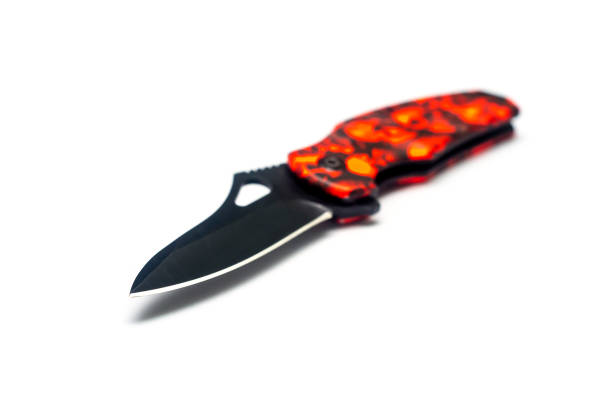knife: (127, 87, 522, 300)
